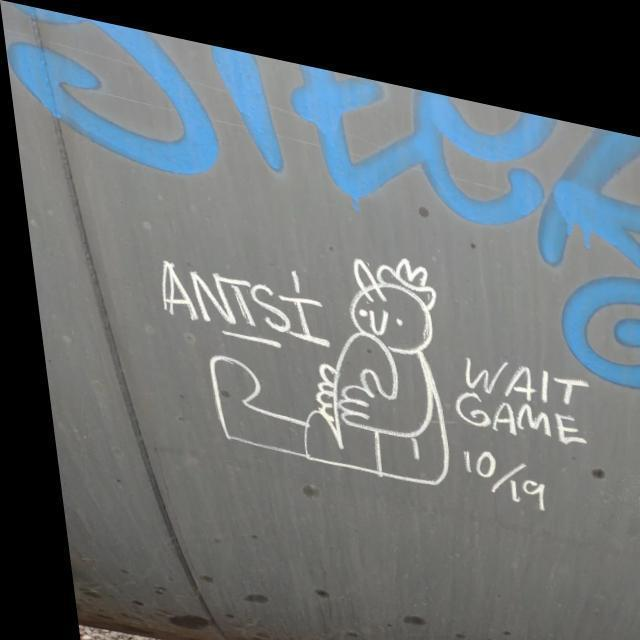nonspitting: (11, 0, 640, 388), (160, 259, 589, 514)
